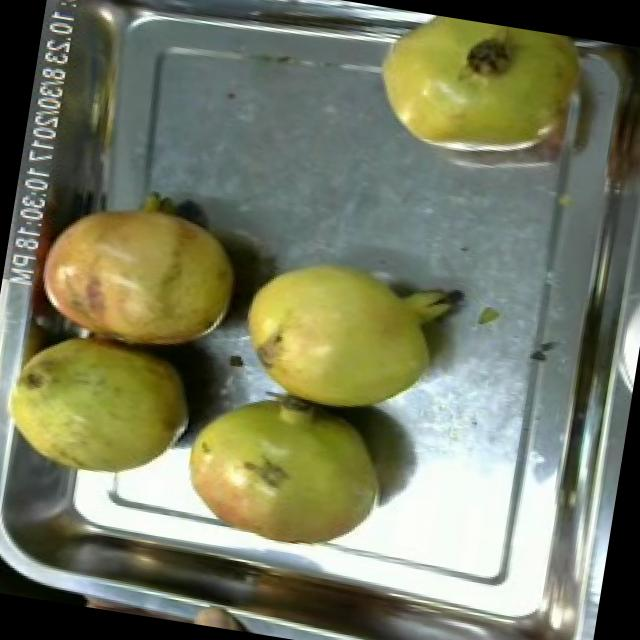fruit: (21, 166, 260, 370), (352, 5, 612, 188), (161, 373, 407, 562), (223, 240, 463, 432), (0, 314, 215, 508)
